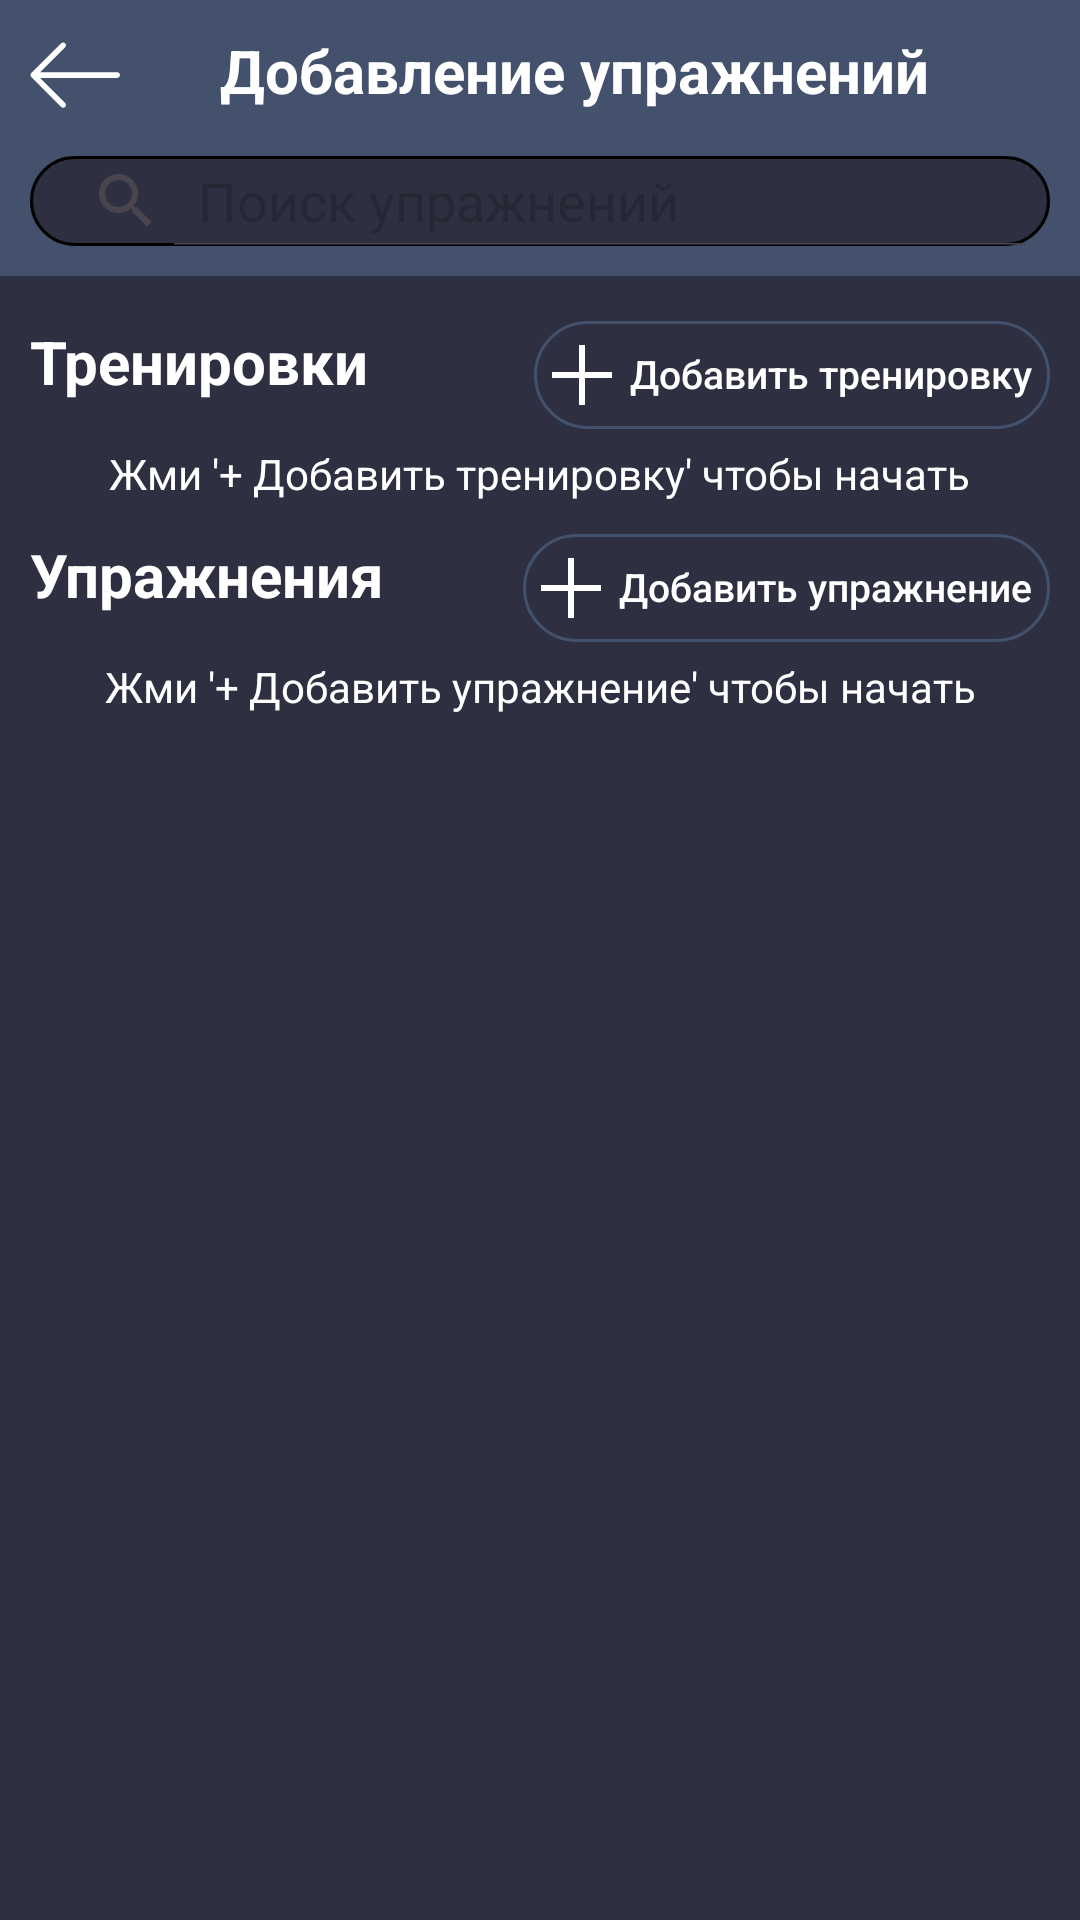

Icons on this 1080×1920 Android screen, each with the point to tap as (x,y):
back: (75,75)
